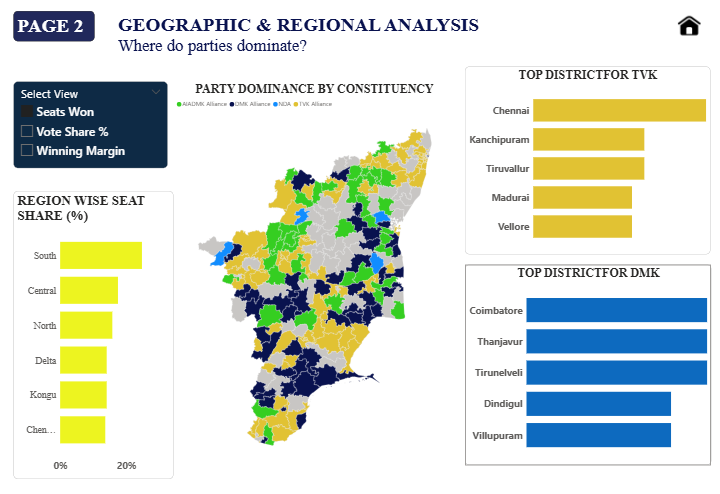

Layout of this report page (visuals, bound fields, positions):
{"tool":"powerbi","page":{"name":"Page 2","canvas":[1600,1100],"ordinal":2},"visuals":[{"type":"textbox","box":[277.5,47.5,107,13],"z":0},{"type":"textbox","box":[255,25,1322.5,157.5],"z":1000},{"type":"textbox","box":[30,25,180,67.5],"z":2000},{"type":"barChart","title":"REGION WISE SEAT SHARE (%)","fields":{"Category":["election_results.region"],"Y":["key_measures.Region Seat Share %"]},"box":[30,425,355,640],"z":3000},{"type":"barChart","title":"TOP DISTRICTFOR DMK","fields":{"Category":["constituency_master.district"],"Y":["key_measures.Seats Won"]},"box":[1032.5,590,547.5,445],"z":4000},{"type":"barChart","title":"TOP DISTRICTFOR TVK","fields":{"Category":["constituency_master.district"],"Y":["key_measures.Seats Won"]},"box":[1032.5,150,545,417.5],"z":5000},{"type":"slicer","fields":{"Values":["Metric Selector.Metric"]},"box":[30,182.5,342.5,192.5],"z":6000},{"type":"shapeMap","title":"PARTY DOMINANCE BY CONSTITUENCY","fields":{"Category":["election_results.constituency"],"Series":["election_results.Alliance"],"Value":["key_measures.Seats Won"]},"box":[385,182.5,625,852.5],"z":7000},{"type":"image","box":[1487.5,25,90,67.5],"z":7001}]}

Visuals, with their boxes in screenshot pixels (x1, y1, x2, y2), scaled from the page's 1600x1100 canvas onto the 720x494 screenshot:
textbox: 125 21 173 27
textbox: 115 11 710 82
textbox: 14 11 94 42
"REGION WISE SEAT SHARE (%)" barChart: 14 191 173 478
"TOP DISTRICTFOR DMK" barChart: 465 265 711 465
"TOP DISTRICTFOR TVK" barChart: 465 67 710 255
slicer - Metric Selector.Metric: 14 82 168 168
"PARTY DOMINANCE BY CONSTITUENCY" shapeMap: 173 82 454 465
image: 669 11 710 42
